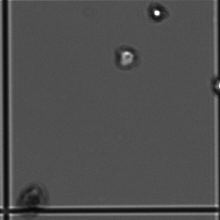Dead Cell: (20, 183, 46, 212)
Living Cell: (111, 41, 143, 74), (147, 2, 167, 21)
